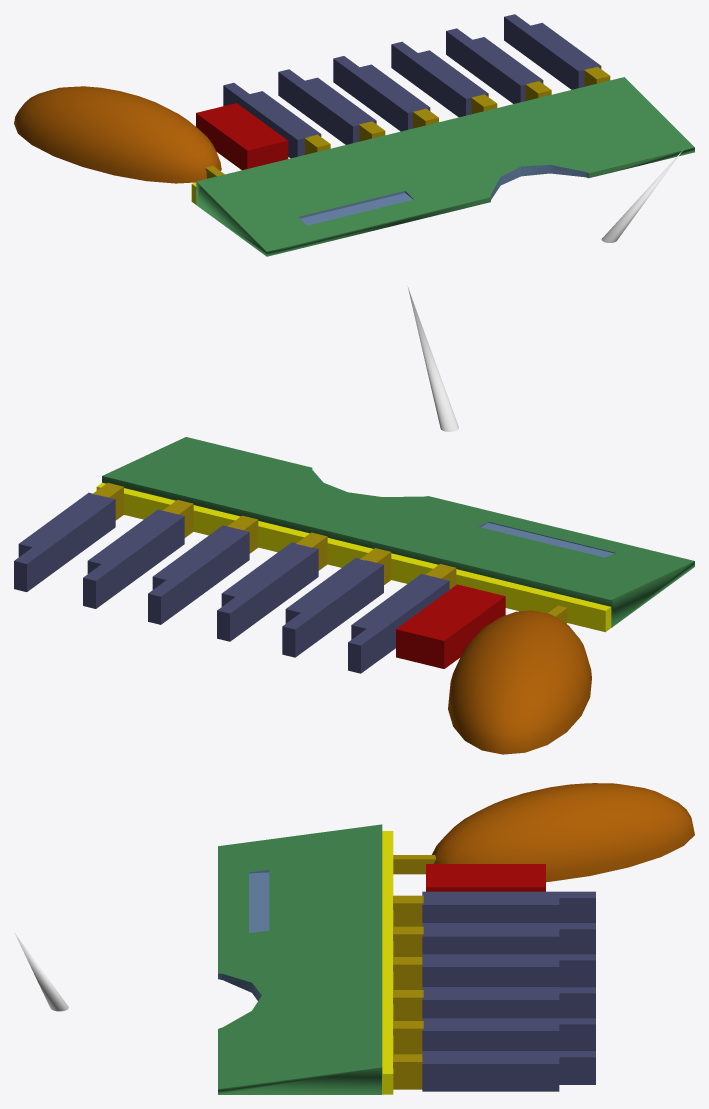
The model's file is Esiee.fbx.
3 renders of one model, top to bottom at view 1: azimuth 30°, elevation 25°; view 2: azimuth 150°, elevation 25°; view 3: azimuth 270°, elevation 25°, orthographic. The views are drawn at different scales.
Visible parts, largest first — view 1: pCube24, pSphere1, pCube22, pCube2, pCube6, pCube5, pCube4, pCube3, pCube7, pCone1, pCube16, pCube17 (+9 smaller); view 2: pCube24, pSphere1, pCube20, pCube22, pCube2, pCube4, pCube5, pCube6, pCube3, pCube7, pCone1, pCube14 (+5 smaller); view 3: pCube24, pSphere1, pCube6, pCube3, pCube5, pCube7, pCube4, pCube2, pCube22, pCube20, pCube14, pCube17 (+12 smaller).
Part boxes in pixels (bbox=[...]): pCube24: bbox=[196, 77, 694, 256]; pSphere1: bbox=[14, 86, 221, 183]; pCube22: bbox=[196, 103, 288, 170]; pCube2: bbox=[294, 77, 376, 144]; pCube6: bbox=[519, 22, 601, 89]; pCube5: bbox=[461, 37, 543, 103]; pCube4: bbox=[407, 50, 488, 117]; pCube3: bbox=[349, 64, 430, 131]; pCube7: bbox=[238, 91, 321, 158]; pCone1: bbox=[601, 149, 683, 242]; pCube16: bbox=[391, 41, 417, 78]; pCube17: bbox=[333, 56, 359, 93]; pCube24: bbox=[102, 437, 694, 627]; pSphere1: bbox=[448, 610, 591, 754]; pCube20: bbox=[96, 482, 611, 632]; pCube22: bbox=[396, 584, 505, 668]; pCube2: bbox=[285, 558, 383, 643]; pCube4: bbox=[152, 525, 249, 610]; pCube5: bbox=[87, 509, 184, 594]; pCube6: bbox=[18, 492, 115, 577]; pCube3: bbox=[221, 542, 318, 627]; pCube7: bbox=[351, 574, 449, 659]; pCone1: bbox=[407, 286, 458, 431]; pCube14: bbox=[14, 547, 45, 591]; pCube24: bbox=[218, 824, 382, 1094]; pSphere1: bbox=[432, 783, 694, 882]; pCube6: bbox=[422, 1051, 559, 1091]; pCube3: bbox=[422, 954, 559, 986]; pCube5: bbox=[422, 1018, 559, 1050]; pCube7: bbox=[422, 891, 559, 922]; pCube4: bbox=[422, 987, 559, 1018]; pCube2: bbox=[422, 923, 559, 954]; pCube22: bbox=[426, 864, 545, 891]; pCube20: bbox=[382, 831, 393, 1094]; pCube14: bbox=[559, 1051, 595, 1084]; pCube17: bbox=[559, 954, 595, 987].
Size of the model in its own units: 21.73 by 3.89 by 22.41.
